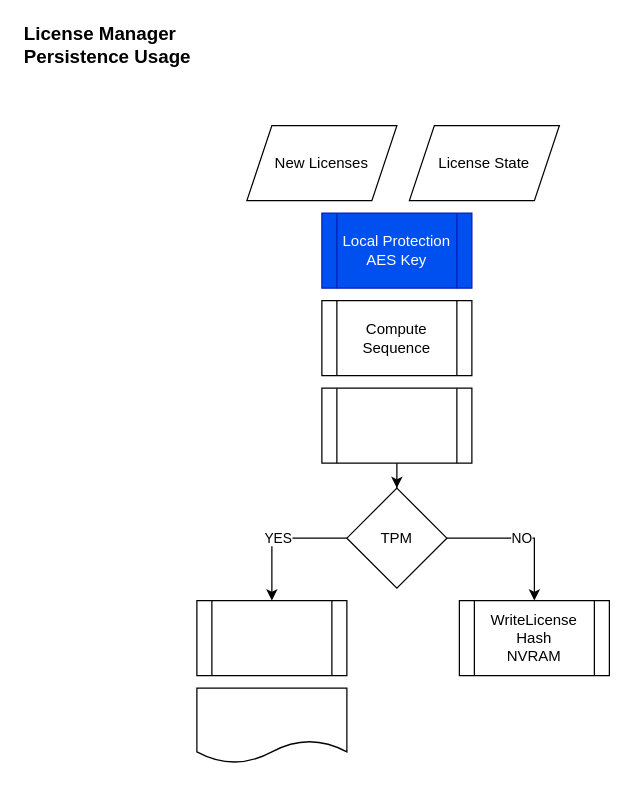
Image size: 631x785. Some labels were removed from this diagram. Here are the shapes that lost their labels. From the top down, the centre of each, then its label:
(x=396, y=425): Compute License Hash
(x=271, y=637): WriteLicense Hash
(x=271, y=725): vault.bin
